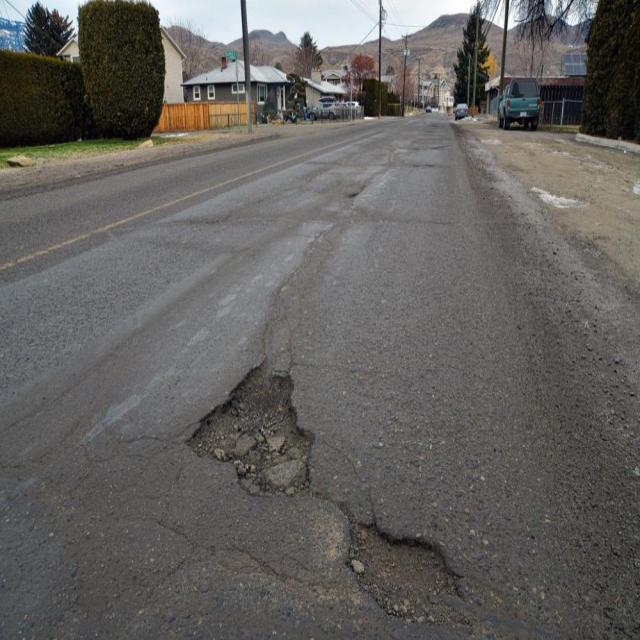Pothole: (181, 359, 313, 496), (345, 517, 468, 625)
